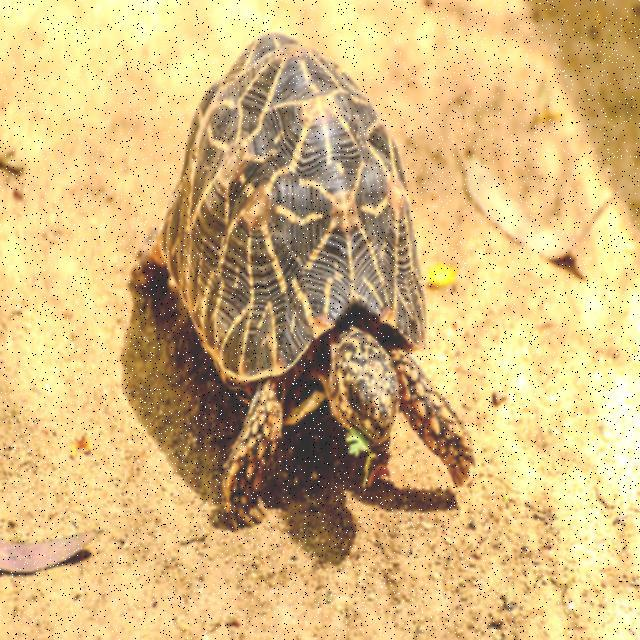tortoise: (144, 33, 484, 523)
